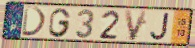2: (98, 9, 121, 41)
3: (74, 8, 96, 40)
D: (20, 6, 48, 38)
G: (47, 7, 72, 39)
J: (149, 12, 171, 42)
V: (123, 9, 149, 42)
